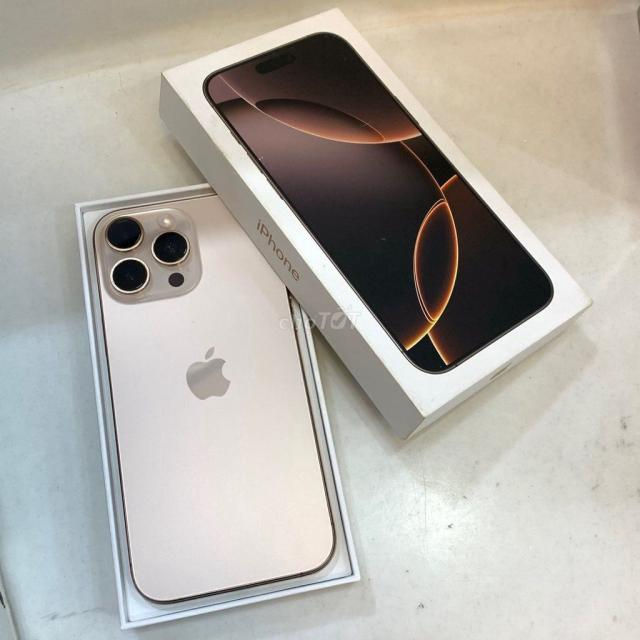gen_16: (95, 192, 350, 606)
